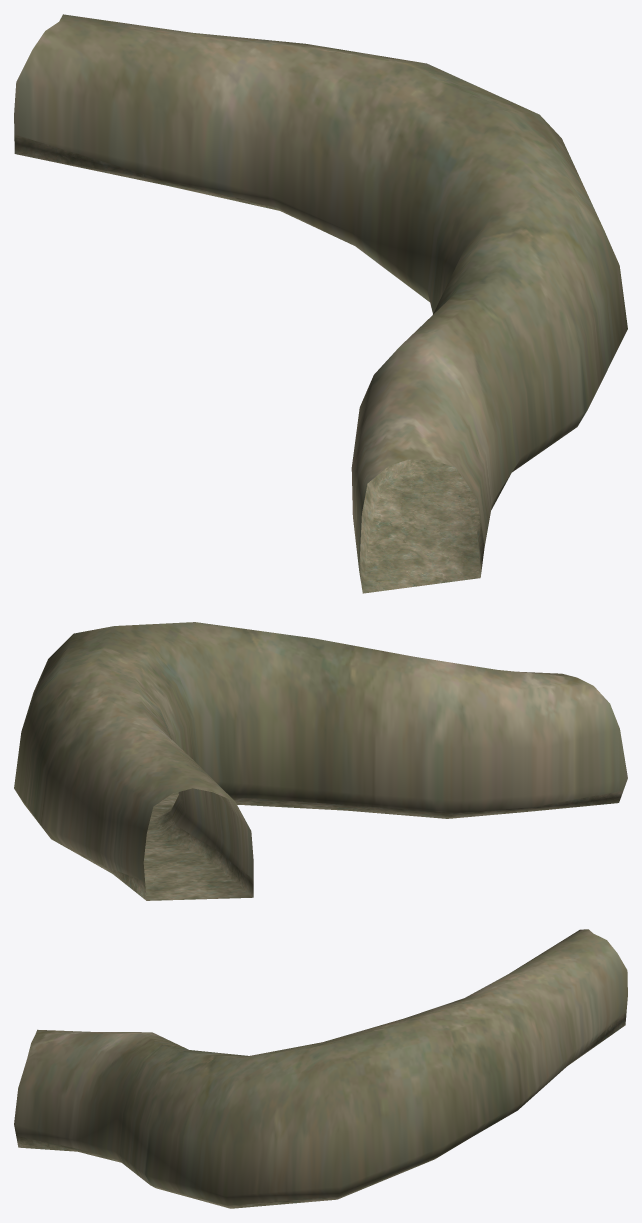
The model's file is EKH_THRONE_PS_TH_LINE169.fbx.
The picture shows the model from 3 angles, top to bottom: view 1: azimuth 30°, elevation 25°; view 2: azimuth 150°, elevation 25°; view 3: azimuth 270°, elevation 25°; orthographic projection. The views are drawn at different scales.
Parts seen in each view (by area): view 1: EKH_THRONE_PS_TH_LINE169; view 2: EKH_THRONE_PS_TH_LINE169; view 3: EKH_THRONE_PS_TH_LINE169.
Boxes of the visible parts, bbox=[...] form: EKH_THRONE_PS_TH_LINE169: bbox=[14, 14, 627, 593]; EKH_THRONE_PS_TH_LINE169: bbox=[14, 622, 627, 900]; EKH_THRONE_PS_TH_LINE169: bbox=[14, 929, 627, 1208].
Size of the model in its own units: 80832 by 49358 by 135090.
Materials: 1 (1 with a texture image).
